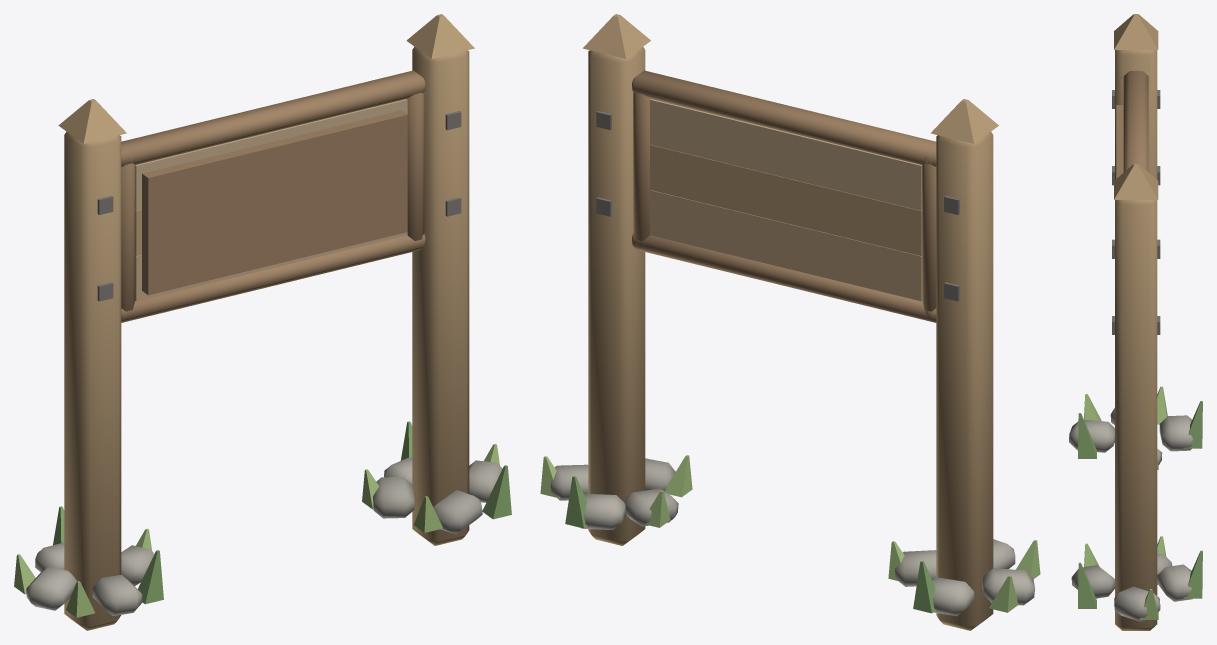
File: sign_post.glb
3 renders of one model, left to right at view 1: azimuth 30°, elevation 25°; view 2: azimuth 150°, elevation 25°; view 3: azimuth 270°, elevation 25°, orthographic. The views are drawn at different scales.
Parts seen in each view (by area): view 1: sign_post; view 2: sign_post; view 3: sign_post.
Part boxes in pixels (box(x1,y1,x2,y2)): sign_post: box(14, 14, 511, 630); sign_post: box(540, 14, 1040, 630); sign_post: box(1069, 14, 1202, 630).
Size of the model in its own units: 8.13 by 8.45 by 2.23.
